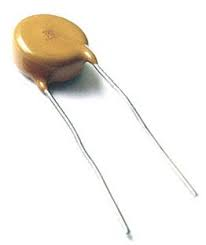ceramic capacitor: (6, 6, 123, 126)
